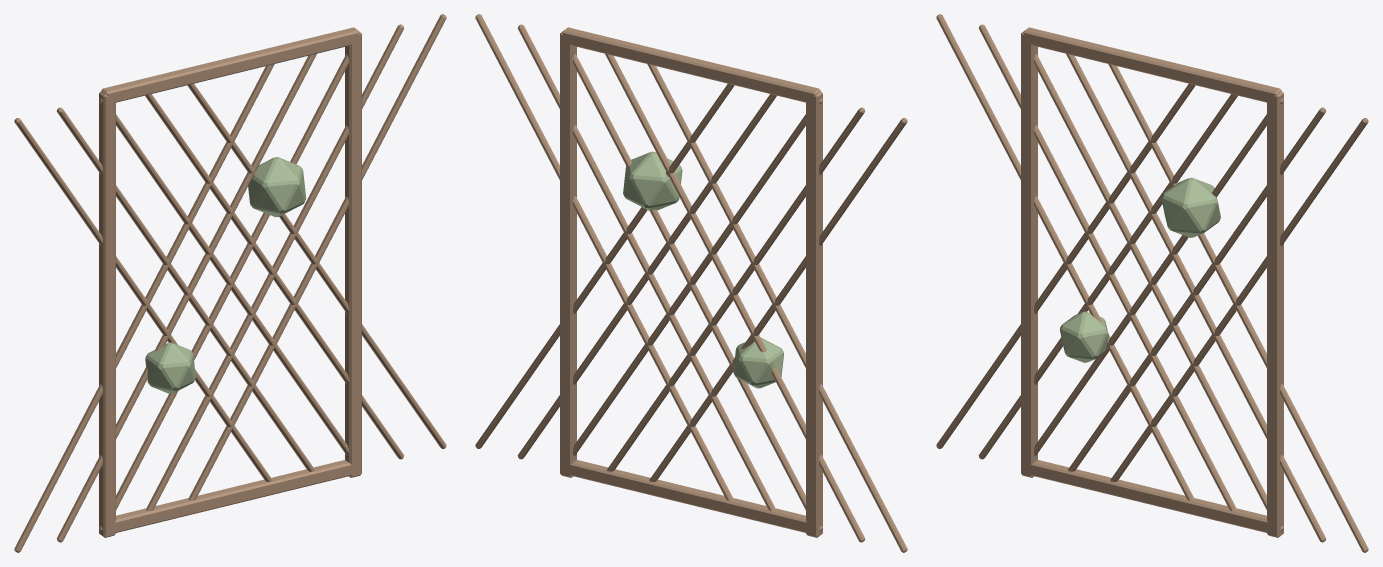
The model's file is SM_Trellis.fbx.
The picture shows the model from 3 angles, left to right: view 1: azimuth 30°, elevation 25°; view 2: azimuth 150°, elevation 25°; view 3: azimuth 330°, elevation 25°; orthographic projection.
Parts seen in each view (by area): view 1: Trellis; view 2: Trellis; view 3: Trellis.
Boxes of the visible parts, x1=… form: Trellis: x1=14, y1=14, x2=446, y2=552; Trellis: x1=475, y1=14, x2=907, y2=552; Trellis: x1=936, y1=14, x2=1368, y2=552.
Size of the model in its own units: 203 by 201 by 23.25.
